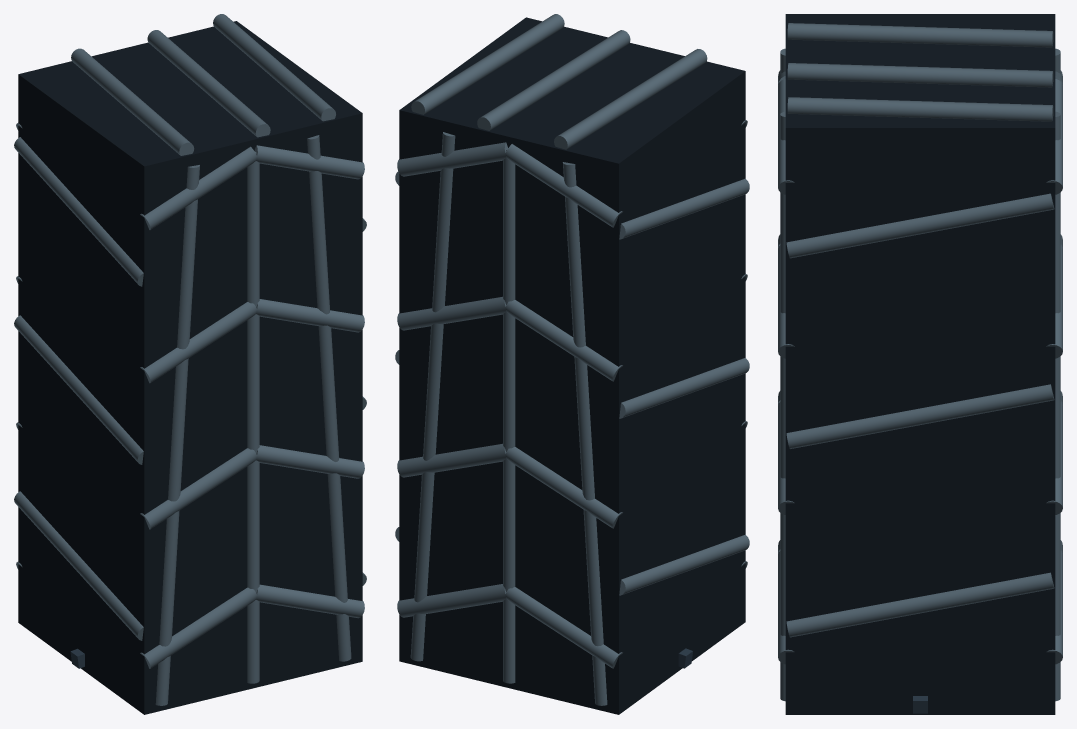
File: CMU3DHiveWallXenoResinWeedbound.glb
3 renders of one model, left to right at view 1: azimuth 30°, elevation 25°; view 2: azimuth 150°, elevation 25°; view 3: azimuth 270°, elevation 25°, orthographic. The views are drawn at different scales.
Parts seen in each view (by area): view 1: continuous sealed resin core, vertical exoskeletal rib (×3), front and rear sweeping rib (×8), roof rib (×3), finished side rib (×3); view 2: continuous sealed resin core, vertical exoskeletal rib (×3), front and rear sweeping rib (×8), roof rib (×3), finished side rib (×3); view 3: continuous sealed resin core, roof rib (×3), finished side rib (×3), vertical exoskeletal rib (×2), front and rear sweeping rib (×8).
Part boxes in pixels (left/top/right/bottom): continuous sealed resin core: left=18, top=21, right=362, bottom=714; vertical exoskeletal rib (×3): left=155, top=135, right=351, bottom=705; front and rear sweeping rib (×8): left=140, top=145, right=364, bottom=668; roof rib (×3): left=71, top=14, right=335, bottom=155; finished side rib (×3): left=14, top=137, right=143, bottom=640; continuous sealed resin core: left=399, top=17, right=745, bottom=714; vertical exoskeletal rib (×3): left=410, top=132, right=607, bottom=705; front and rear sweeping rib (×8): left=397, top=142, right=622, bottom=668; roof rib (×3): left=411, top=14, right=707, bottom=149; finished side rib (×3): left=619, top=179, right=749, bottom=595; continuous sealed resin core: left=785, top=14, right=1055, bottom=714; roof rib (×3): left=787, top=23, right=1053, bottom=121; finished side rib (×3): left=786, top=193, right=1054, bottom=637; vertical exoskeletal rib (×2): left=780, top=111, right=1060, bottom=701; front and rear sweeping rib (×8): left=778, top=79, right=1062, bottom=664.
Size of the model in its own units: 1.07 by 2.45 by 1.06.
